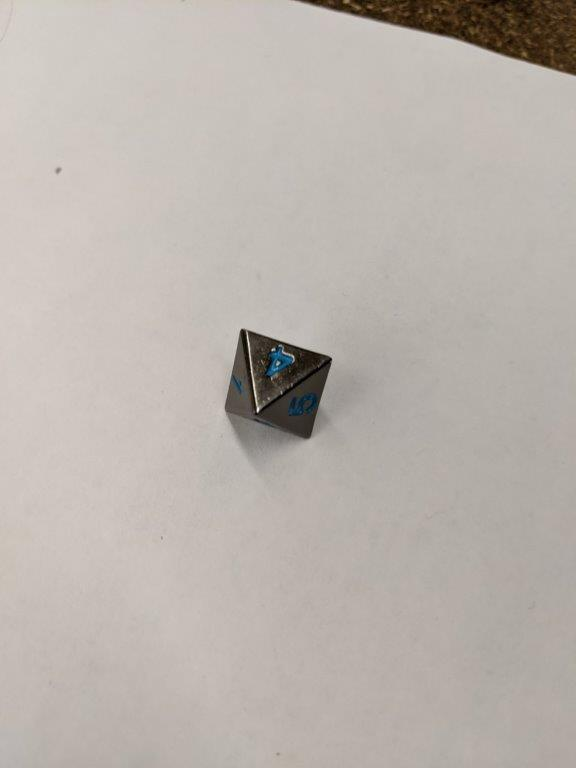d8-4: (220, 329, 334, 444)
